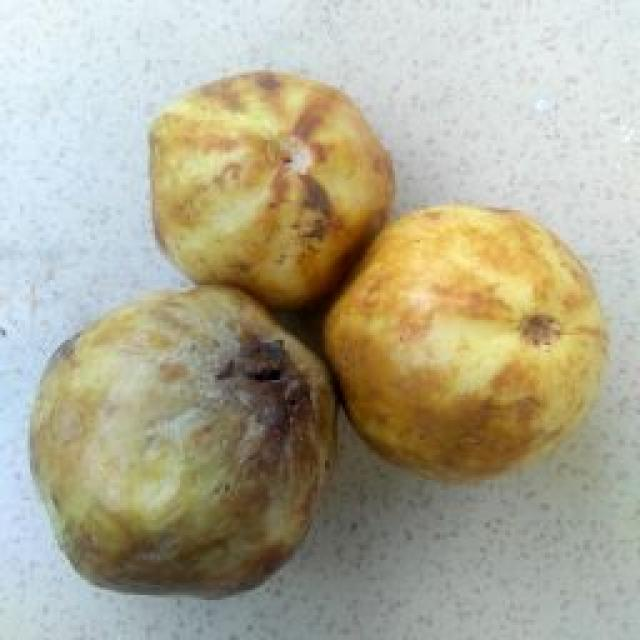Bad_Guava: (30, 285, 335, 594), (150, 71, 394, 308)
